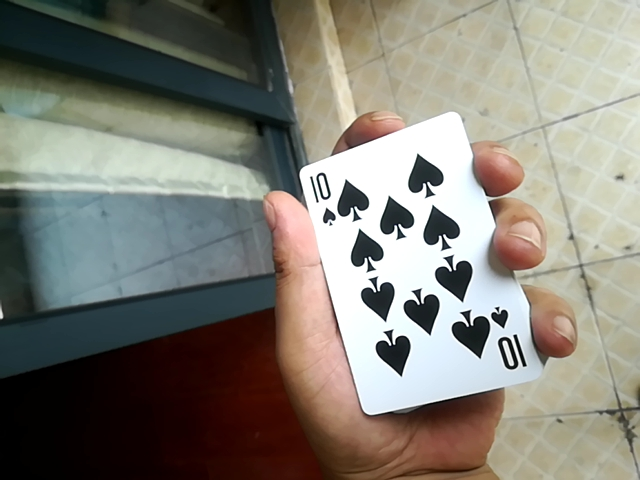ht 10: (293, 105, 540, 413)
